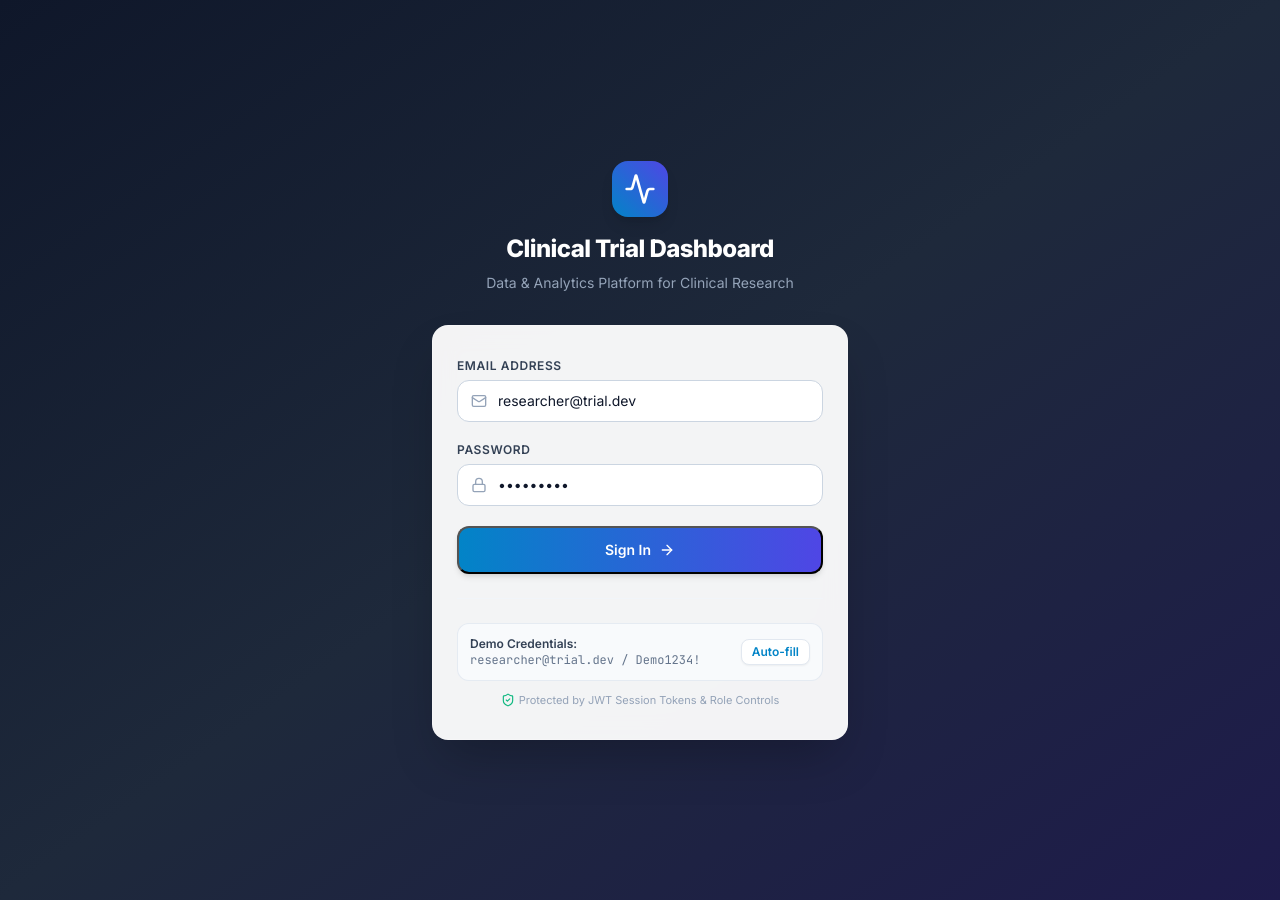
it: LoginPage › handles login failure and displays error message
The image size is (1280, 900).
Click the button "Sign In": [640, 550] box [457,526,823,574]
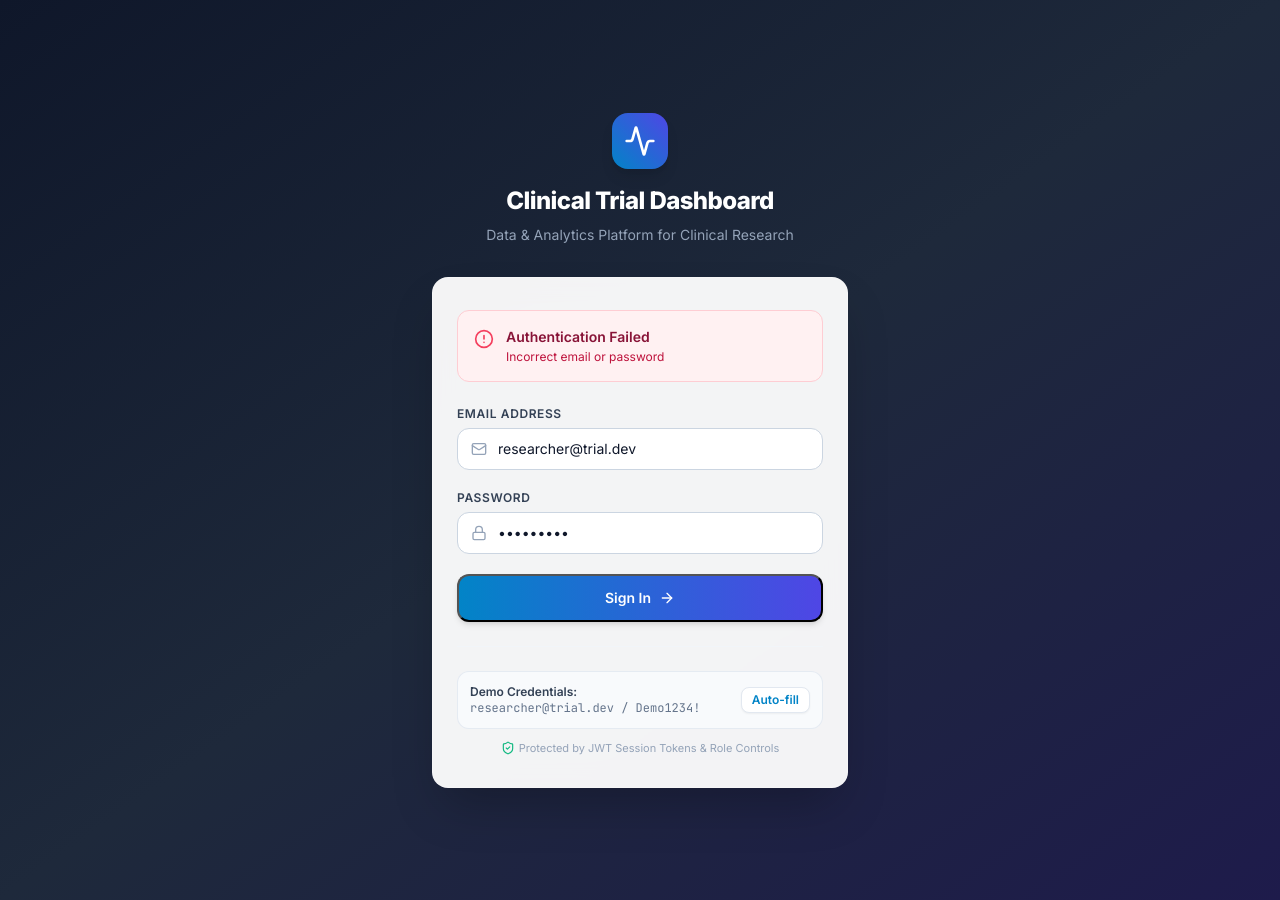
Expected: the text "Authentication Failed" is shown, [506,326,664,346]
Expected: the text "Incorrect email or password" is shown, [506,348,664,364]
